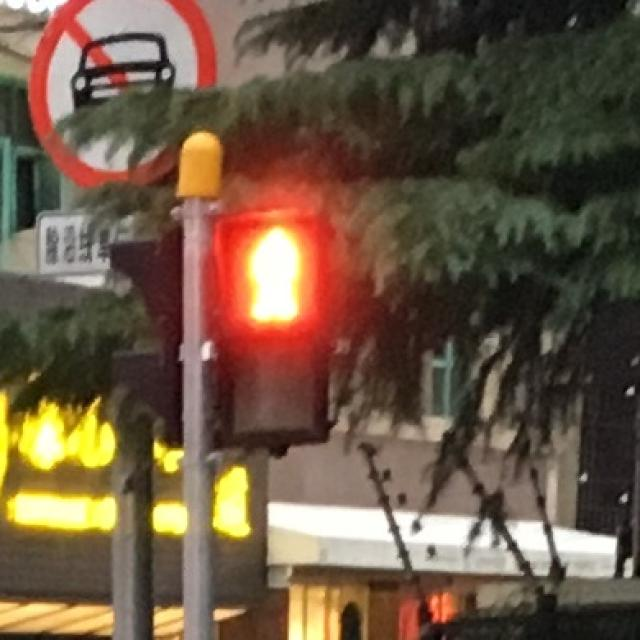red_light: (225, 220, 315, 326)
